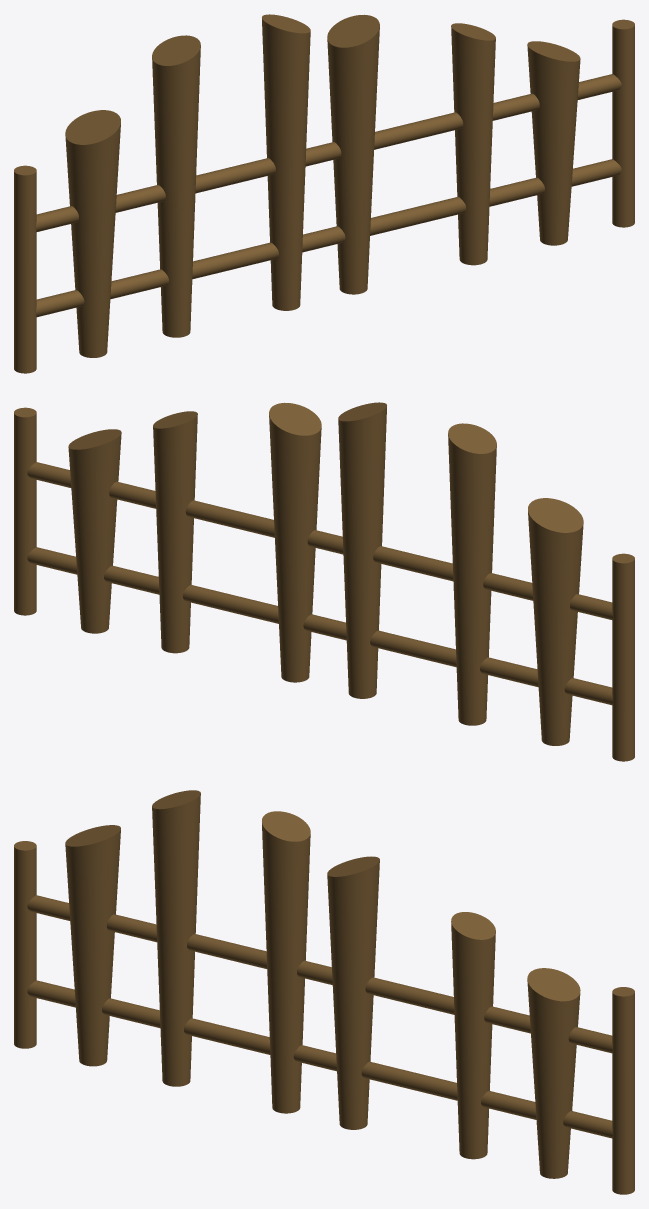
File: Забор — копия.fbx
3 views of the same model, one above another, from view 1: azimuth 30°, elevation 25°; view 2: azimuth 150°, elevation 25°; view 3: azimuth 330°, elevation 25° (orthographic).
Visible parts, largest first — view 1: Cylinder.009; view 2: Cylinder.009; view 3: Cylinder.009.
Part boxes in pixels (x1=…): Cylinder.009: x1=14, y1=14, x2=634, y2=373; Cylinder.009: x1=14, y1=402, x2=634, y2=761; Cylinder.009: x1=14, y1=790, x2=634, y2=1194.
Size of the model in its own units: 921 by 410 by 74.82.
